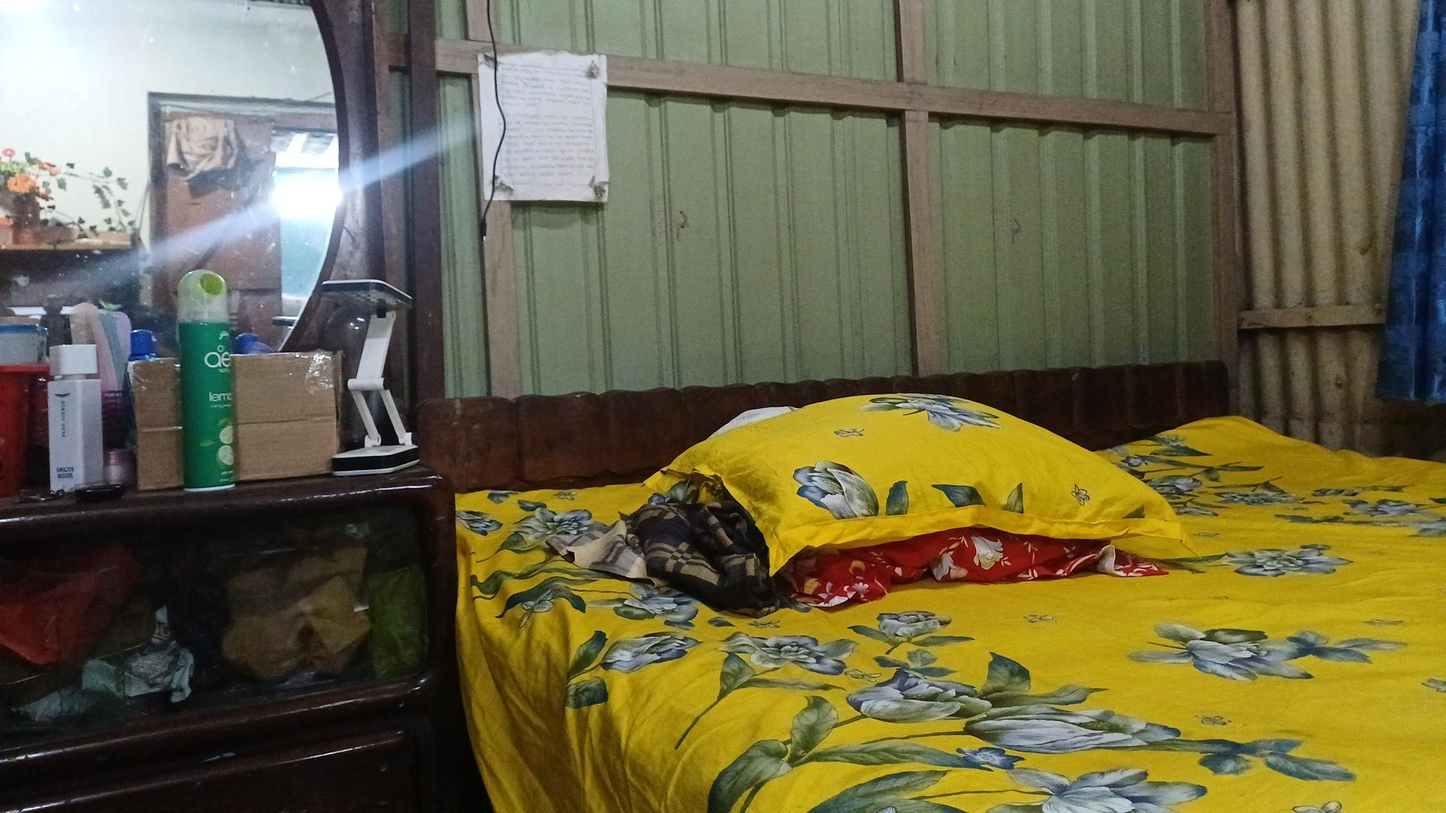Bottle: (169, 272, 238, 481), (46, 343, 106, 483)
Box: (126, 352, 334, 474)
Mirror: (2, 11, 336, 338)
Table Lamp: (346, 278, 433, 464)
Towel: (595, 491, 763, 613)
